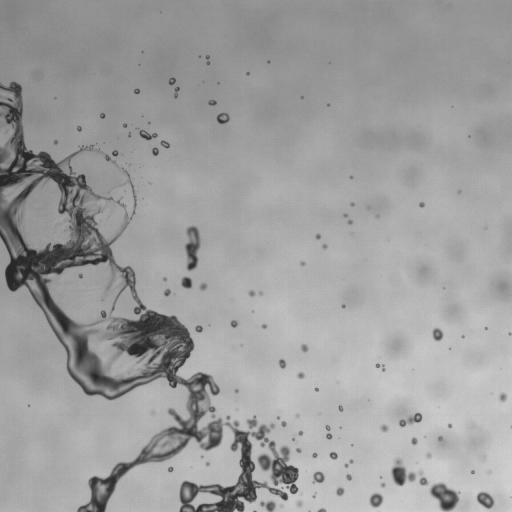droplet: (429, 482, 459, 511), (390, 458, 416, 486), (476, 491, 494, 508), (369, 492, 383, 507), (260, 500, 275, 511), (312, 471, 324, 483), (432, 328, 443, 341), (181, 276, 192, 288), (217, 113, 229, 123), (498, 392, 506, 402), (160, 140, 169, 148), (278, 359, 286, 368), (336, 487, 344, 495), (230, 320, 238, 327), (380, 424, 388, 431), (329, 452, 337, 459), (195, 325, 202, 332), (301, 344, 308, 351), (152, 147, 158, 155), (200, 283, 206, 290), (164, 289, 170, 296), (248, 290, 255, 296), (297, 372, 304, 378), (411, 437, 417, 444), (296, 500, 302, 507), (208, 100, 216, 105), (169, 78, 175, 84), (112, 150, 118, 156), (326, 433, 332, 439), (315, 233, 320, 239), (338, 405, 343, 411), (426, 452, 431, 458), (480, 456, 486, 461), (346, 474, 351, 480), (419, 202, 424, 207), (281, 421, 286, 426), (469, 422, 474, 427), (325, 425, 330, 430), (134, 89, 139, 93), (100, 113, 104, 118), (77, 126, 81, 131), (347, 220, 352, 224), (322, 244, 327, 248), (300, 261, 305, 265), (78, 273, 82, 278), (261, 324, 266, 328), (438, 436, 442, 441), (296, 448, 301, 452), (312, 453, 317, 457), (168, 467, 173, 471), (381, 482, 385, 487), (350, 202, 354, 206), (343, 213, 347, 217), (341, 304, 345, 308), (314, 387, 318, 391), (298, 431, 302, 435), (312, 493, 316, 497), (206, 461, 209, 466), (123, 124, 127, 127), (54, 140, 57, 144), (448, 424, 451, 428), (471, 470, 474, 474), (235, 389, 238, 392), (151, 411, 154, 414), (163, 278, 167, 280), (259, 292, 262, 294), (350, 176, 352, 178), (485, 327, 487, 329), (509, 332, 511, 334), (297, 414, 299, 416)
ligament: (0, 82, 296, 511), (185, 225, 200, 270), (399, 413, 422, 427), (139, 130, 157, 140), (419, 471, 428, 485), (344, 459, 353, 467), (375, 364, 385, 370), (174, 87, 179, 97), (205, 55, 209, 64), (317, 508, 326, 511), (253, 510, 256, 511)
